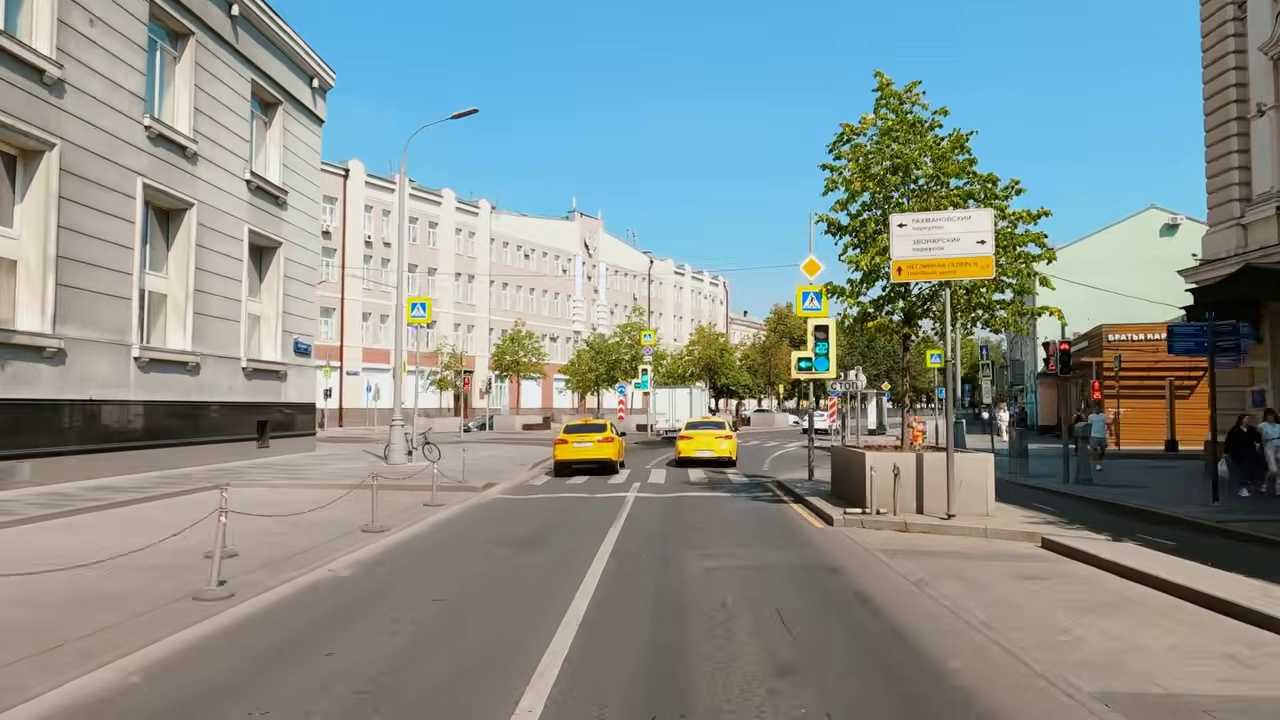acesa: (801, 256, 822, 278)
apagada: (449, 105, 479, 125)
